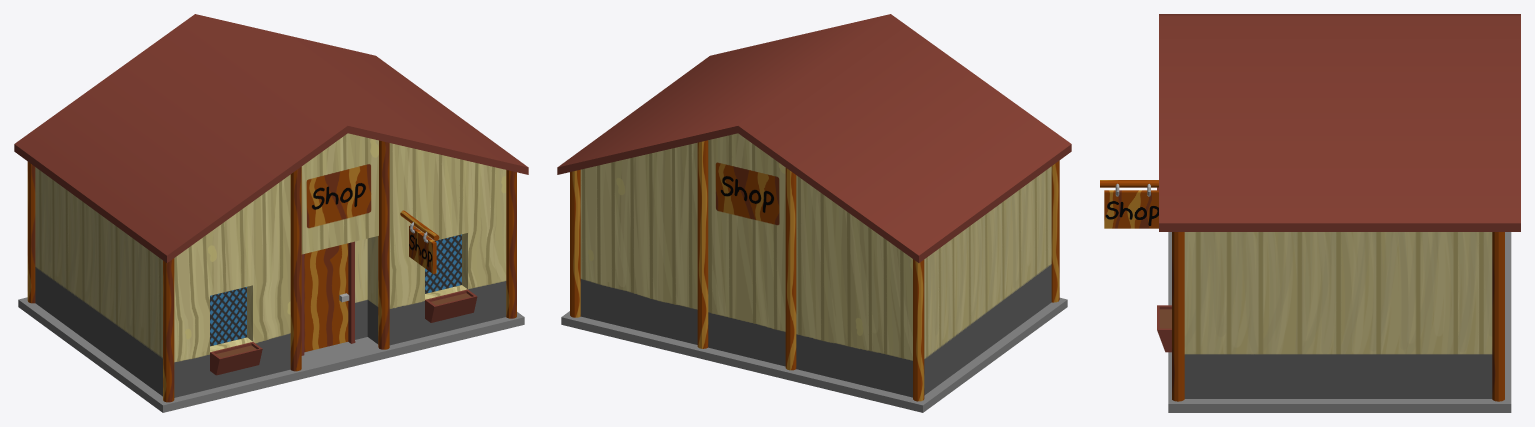
File: General_store.fbx
3 renders of one model, left to right at view 1: azimuth 30°, elevation 25°; view 2: azimuth 150°, elevation 25°; view 3: azimuth 270°, elevation 25°, orthographic. The views are drawn at different scales.
Visible parts, largest first — view 1: General_Store; view 2: General_Store; view 3: General_Store.
Boxes of the visible parts, x1=… form: General_Store: x1=14, y1=14, x2=528, y2=412; General_Store: x1=557, y1=14, x2=1071, y2=412; General_Store: x1=1100, y1=14, x2=1520, y2=412.
Size of the model in its own units: 10 by 6.5 by 8.5.
